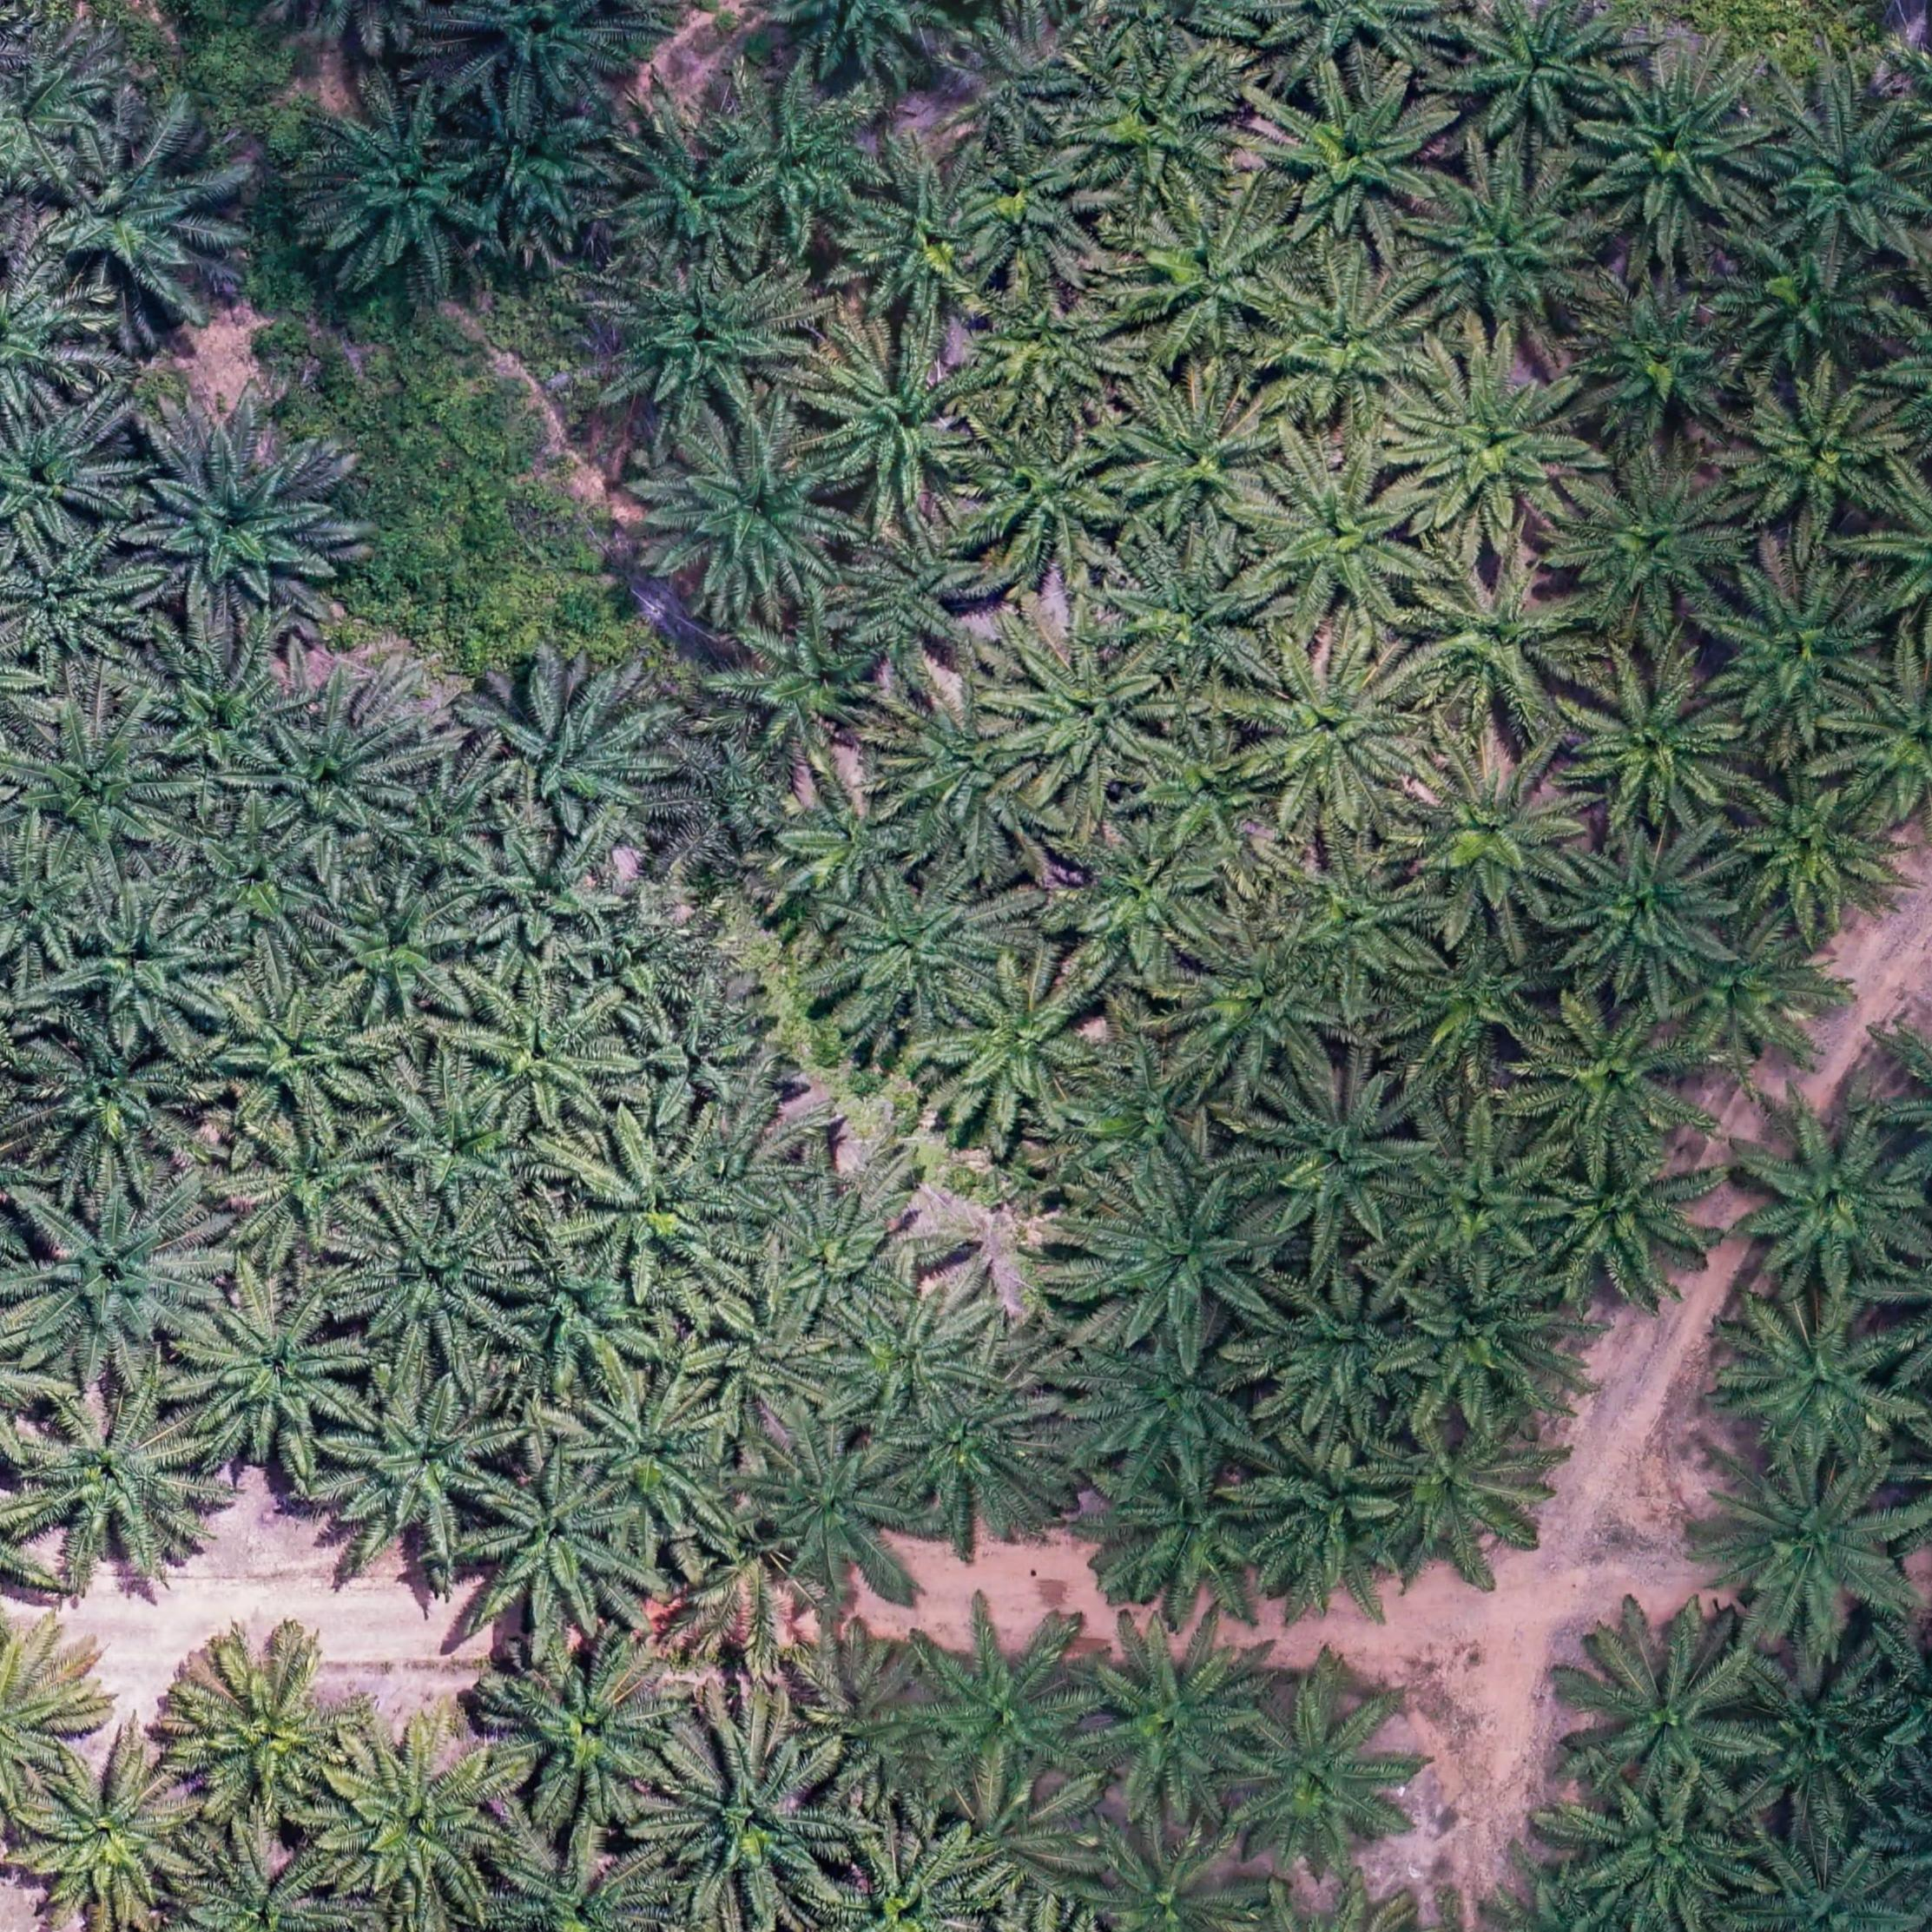palmtree: (1700, 1454, 1920, 1658), (1725, 1097, 1930, 1306), (649, 1713, 853, 1923), (1074, 1619, 1281, 1822), (600, 251, 821, 441), (138, 421, 341, 621), (646, 425, 856, 617), (14, 1185, 223, 1375), (1394, 350, 1599, 541), (304, 87, 495, 292), (1566, 1622, 1771, 1812), (1583, 55, 1780, 249), (483, 1638, 685, 1828), (904, 1610, 1099, 1805), (1224, 1690, 1421, 1882), (322, 1729, 520, 1918), (37, 124, 232, 313), (471, 669, 676, 846), (1247, 640, 1438, 830), (1725, 1295, 1921, 1479), (21, 1385, 218, 1569), (805, 329, 993, 520), (327, 1378, 522, 1562), (1079, 1173, 1283, 1348), (180, 1642, 375, 1824), (186, 1283, 375, 1468), (1555, 455, 1748, 637), (1263, 69, 1458, 249), (1407, 552, 1598, 734), (1412, 157, 1605, 336), (1716, 759, 1909, 938), (1729, 1649, 1911, 1836), (1560, 653, 1746, 835), (577, 1100, 759, 1286), (1065, 44, 1260, 218), (1253, 1069, 1437, 1251), (1254, 449, 1440, 630), (19, 1746, 205, 1925), (1403, 745, 1591, 922), (1532, 1131, 1723, 1302), (1713, 561, 1893, 740), (1566, 271, 1748, 448), (469, 1451, 644, 1635), (1396, 1263, 1582, 1437), (1118, 196, 1307, 366), (1076, 1322, 1269, 1488), (748, 1428, 929, 1605), (1550, 823, 1734, 996), (1727, 368, 1913, 540), (1757, 87, 1930, 269), (840, 149, 1014, 331), (341, 1198, 525, 1369), (1242, 1431, 1419, 1608), (1520, 994, 1702, 1166), (883, 1368, 1069, 1534), (1056, 812, 1237, 982), (23, 1019, 207, 1185), (1088, 1453, 1274, 1617), (1108, 373, 1286, 543), (934, 962, 1113, 1132), (881, 692, 1054, 865), (1256, 1276, 1435, 1442), (1437, 2, 1626, 157), (996, 633, 1173, 800), (1263, 265, 1444, 428), (12, 715, 188, 881), (460, 980, 639, 1143), (718, 607, 899, 768), (1723, 232, 1907, 386), (1387, 924, 1564, 1083), (1394, 1120, 1571, 1279), (212, 977, 391, 1134), (253, 695, 423, 860), (1580, 1780, 1766, 1930), (835, 872, 1008, 1033), (1373, 1414, 1550, 1571), (718, 81, 895, 239), (1180, 929, 1348, 1092), (961, 426, 1132, 586), (1661, 913, 1833, 1072), (571, 1378, 734, 1545), (494, 1240, 665, 1398), (453, 87, 626, 242), (223, 1113, 398, 1265), (842, 517, 1003, 678), (62, 890, 228, 1046), (970, 276, 1143, 423), (794, 1649, 952, 1808), (823, 1288, 993, 1435), (439, 0, 648, 119), (1106, 547, 1277, 690), (462, 817, 625, 968), (1277, 846, 1442, 994), (329, 878, 490, 1026), (695, 1283, 844, 1444), (959, 138, 1115, 290), (609, 127, 770, 271), (561, 888, 724, 1028), (939, 1769, 1093, 1914), (1070, 1046, 1230, 1185), (147, 642, 308, 780), (945, 14, 1099, 156), (380, 1079, 534, 1219), (775, 1187, 922, 1332), (0, 1622, 101, 1829), (182, 817, 333, 955), (7, 525, 156, 662), (775, 775, 924, 908), (1079, 1826, 1265, 1932), (0, 405, 129, 556), (757, 0, 966, 90), (616, 998, 763, 1125), (485, 1833, 672, 1932), (1138, 725, 1279, 856), (805, 1835, 994, 1932), (170, 1831, 352, 1932), (0, 39, 111, 203), (1732, 1844, 1923, 1932), (0, 255, 101, 421), (1840, 662, 1932, 830), (384, 770, 510, 888), (676, 741, 803, 851), (0, 840, 97, 962)
